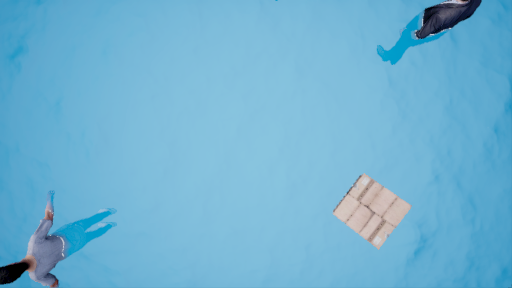person: (4, 195, 117, 283), (390, 4, 474, 73)
